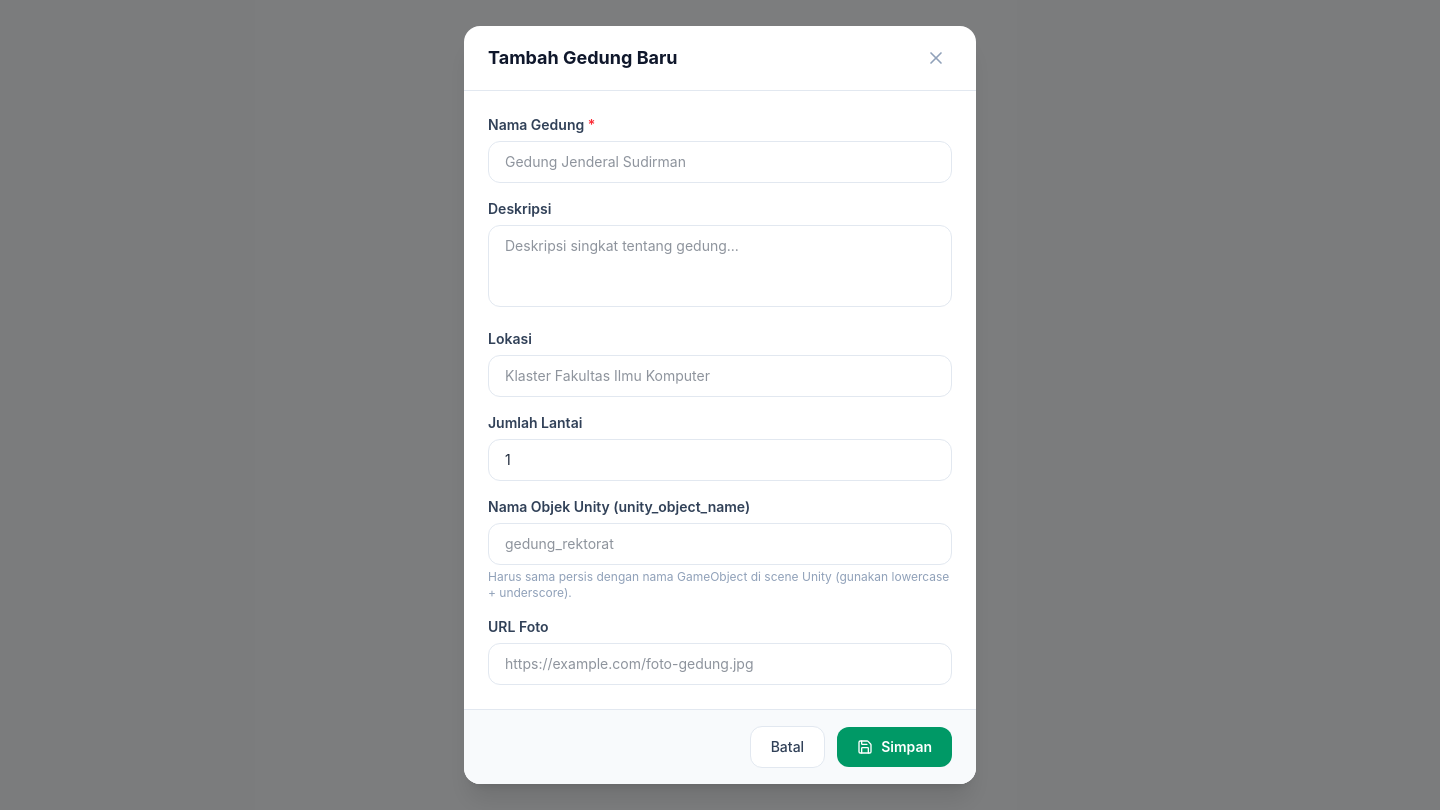
Test case: CRUD modal required-field validation › menampilkan warning nama gedung di bawah field dan menghapusnya saat diisi
Click the button "Simpan". click: (895, 747)
box: [837,727,952,767]
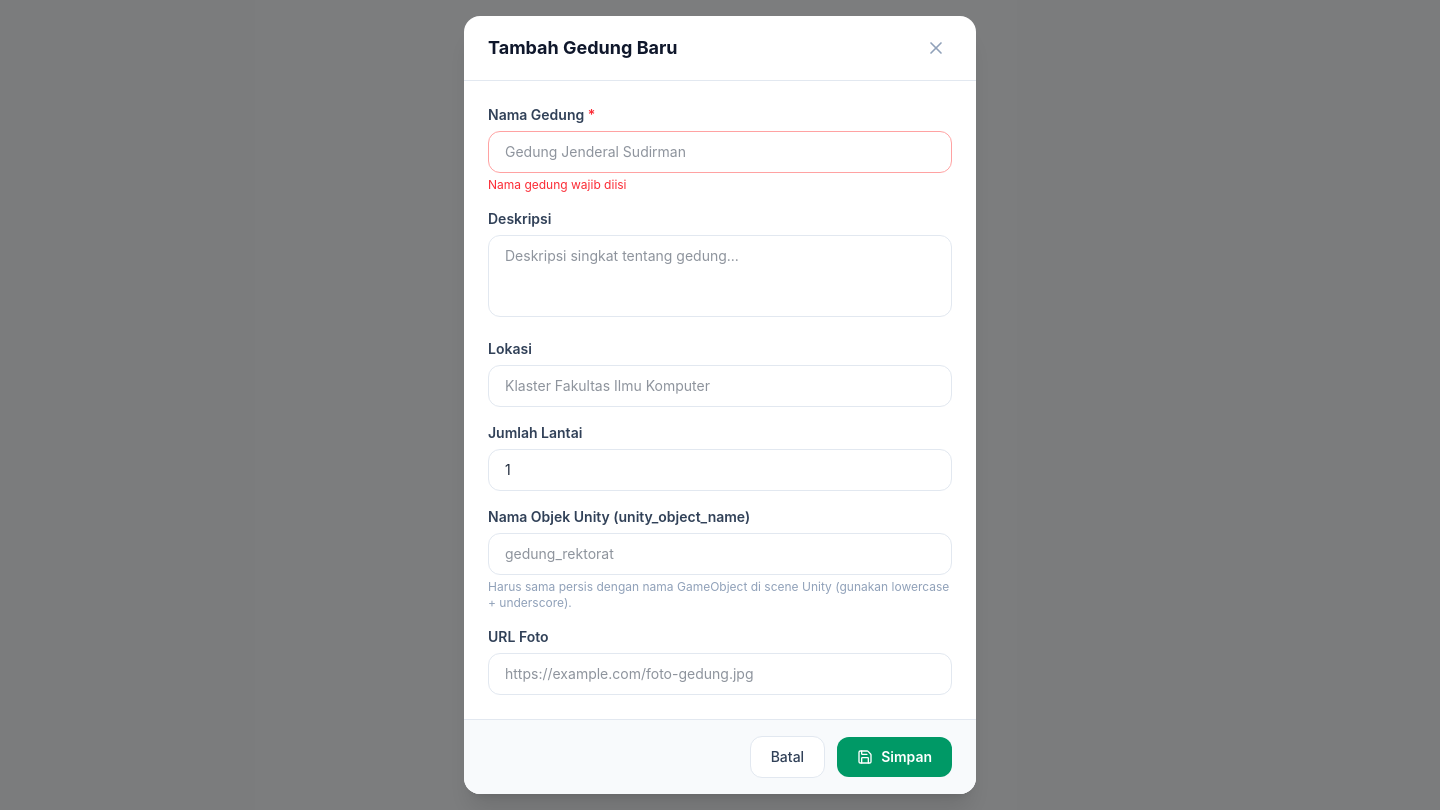
expect the text "Nama gedung wajib diisi" is shown: met, box [488,177,626,192]
Type "Gedung Rektorat" into the field labelled "Nama Gedung *". click: (720, 152)
box: [488,131,952,173]
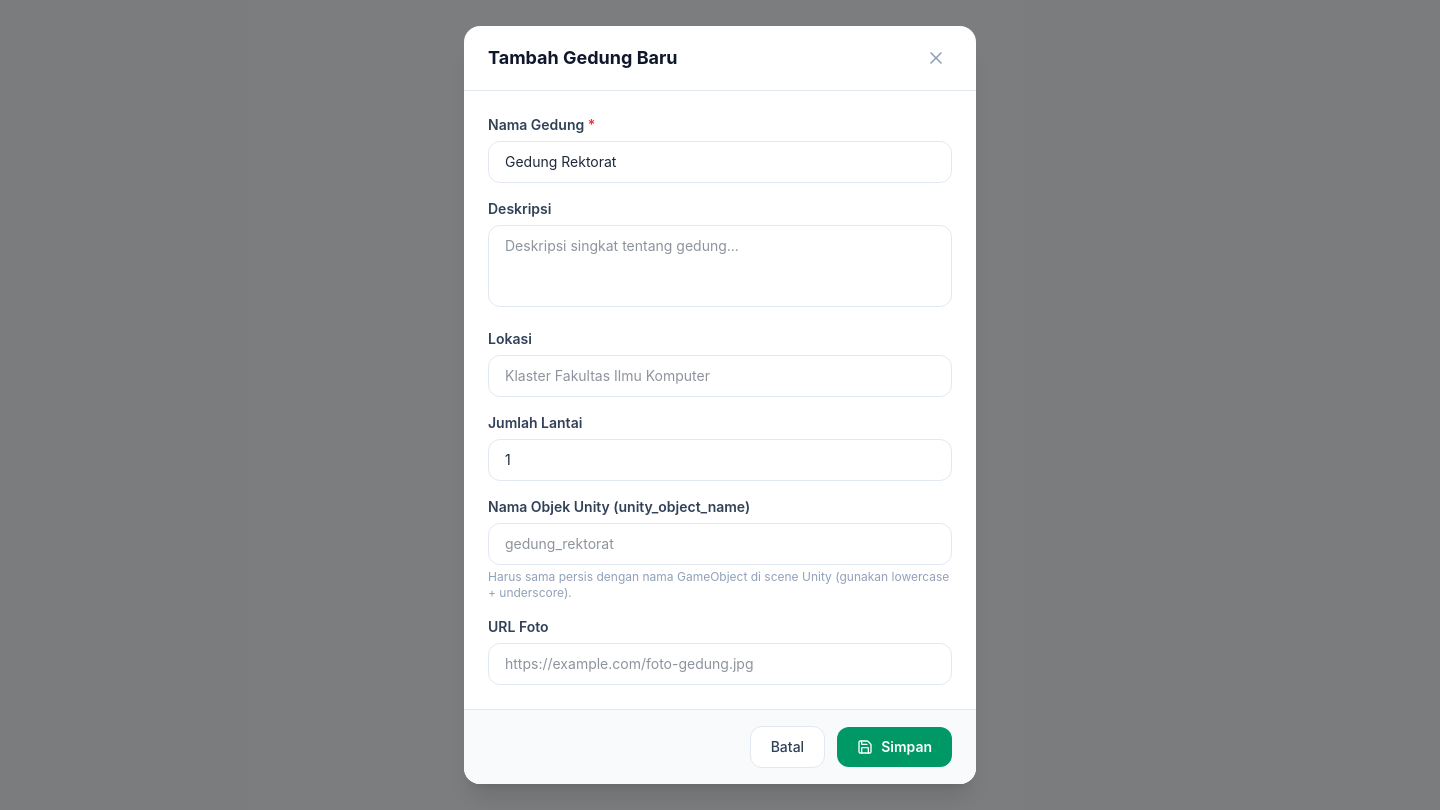
expect the text "Nama gedung wajib diisi" is gone: met
